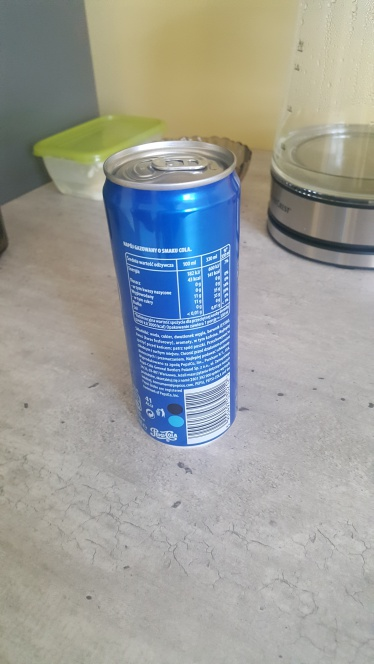pepsi: (100, 133, 250, 454)
